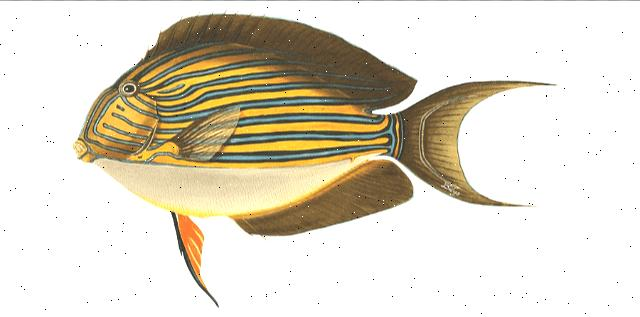Mulut: (59, 124, 107, 188)
Sirip Anal: (224, 143, 418, 249)
Sirip Dada: (150, 93, 254, 175)
Sirip Ekor: (411, 65, 571, 219)
Sirip Perut: (160, 203, 232, 315)
Sirip Punggung: (141, 6, 421, 116)
